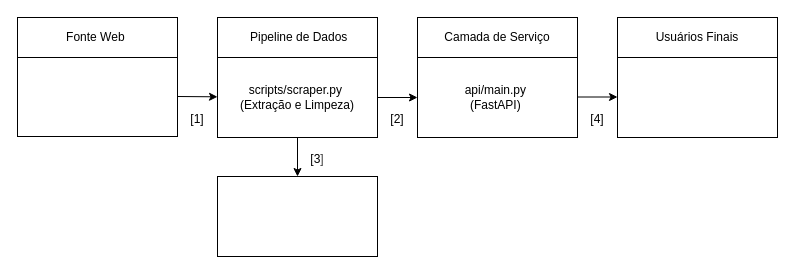
Image size: 795x274. Some labels were removed from this diagram. The centre of each missing label's shape, as x and y in pixels:
"books.toscrape.com (HTML/Dados Brutos)" belongs at point 97,96.
"Cientista de Dados Aplicação Web/Mobile Outros Modelos de ML" belongs at point 697,97.
"data/books.csv (Armazenamento Local)" belongs at point 297,216.
